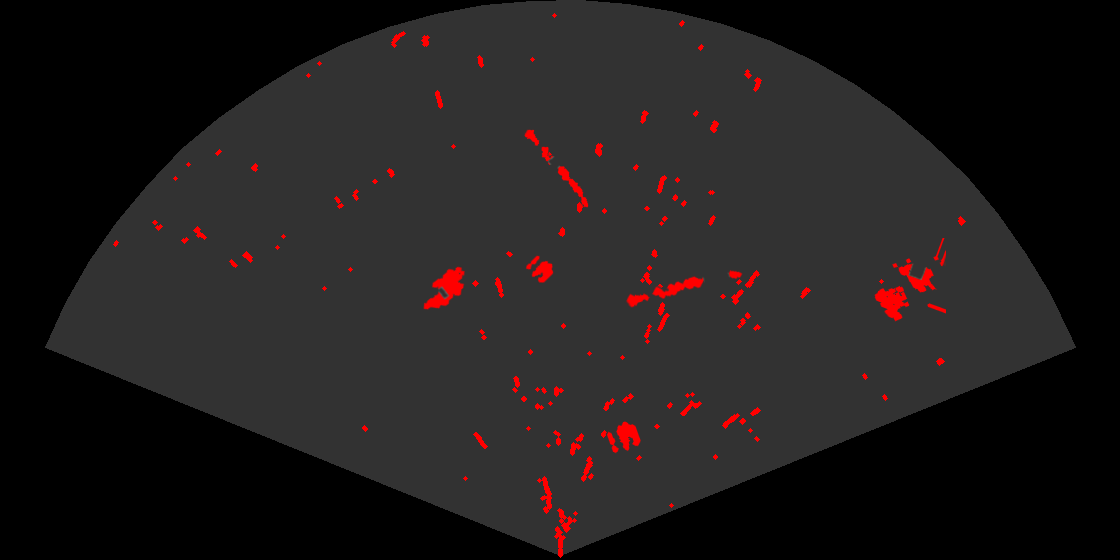AUV: (422, 265, 466, 311)
ball: (605, 420, 642, 455), (524, 254, 555, 284)
cage: (873, 238, 946, 323)
chain: (523, 128, 590, 209), (624, 268, 744, 309)
